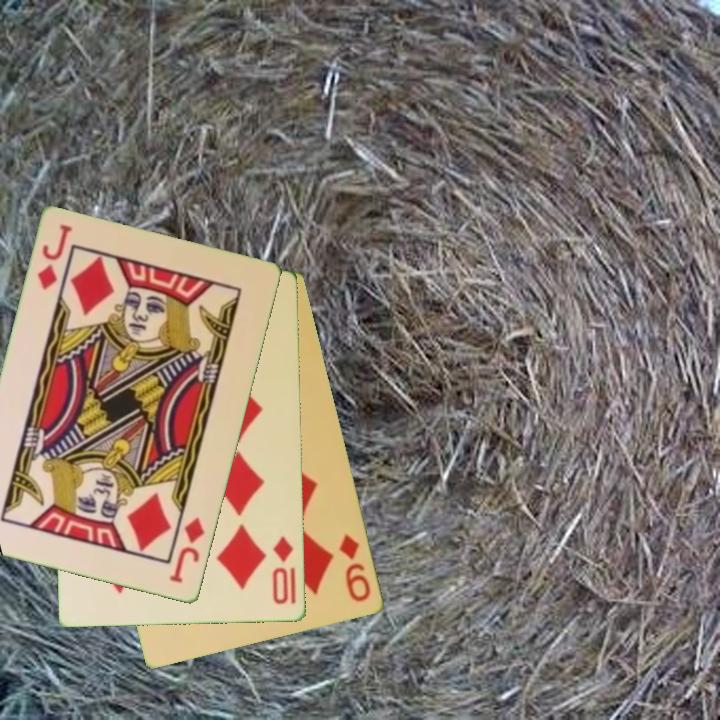10d: (269, 532, 297, 608)
9d: (336, 531, 374, 605)
Jd: (166, 514, 208, 587), (34, 221, 76, 293)
